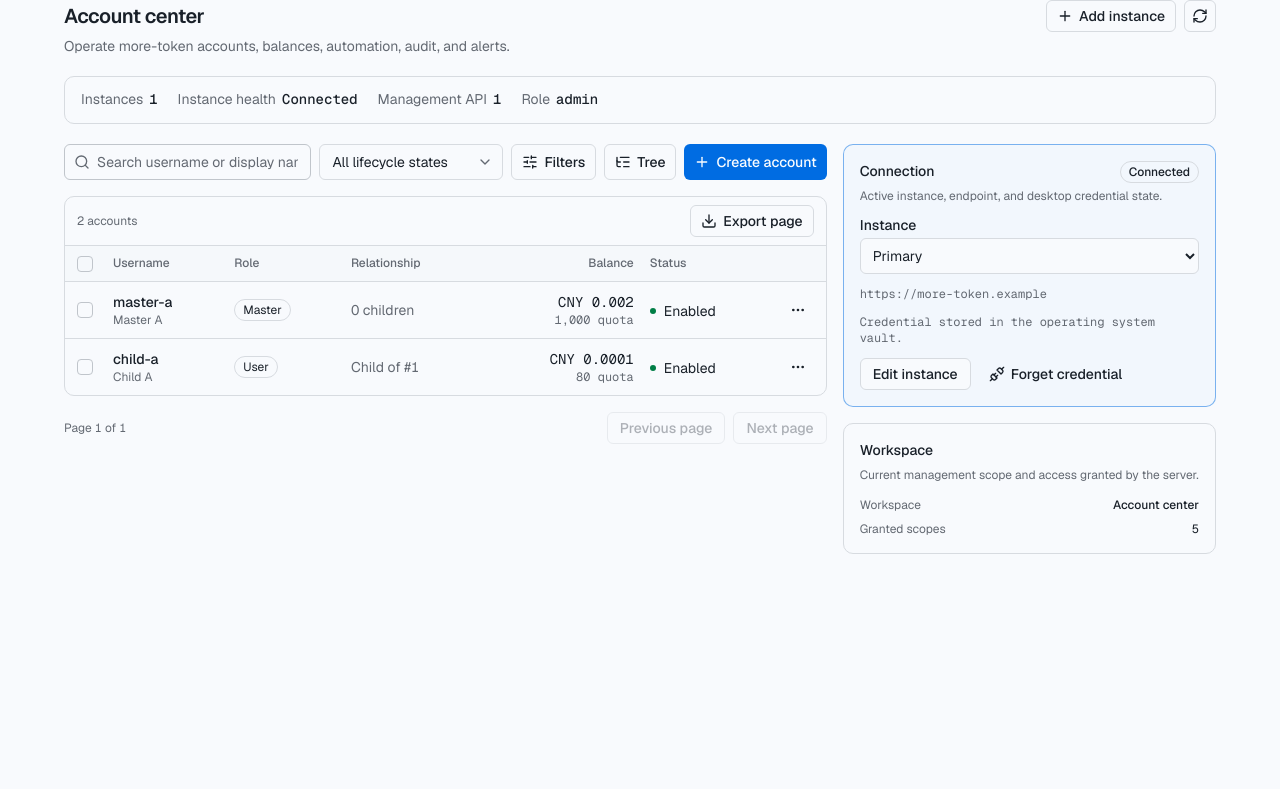
Test: shows safe child relationships and active billing sessions in account details
Click the button "master-a Master A" at (143, 310), box [113,292,172,328]
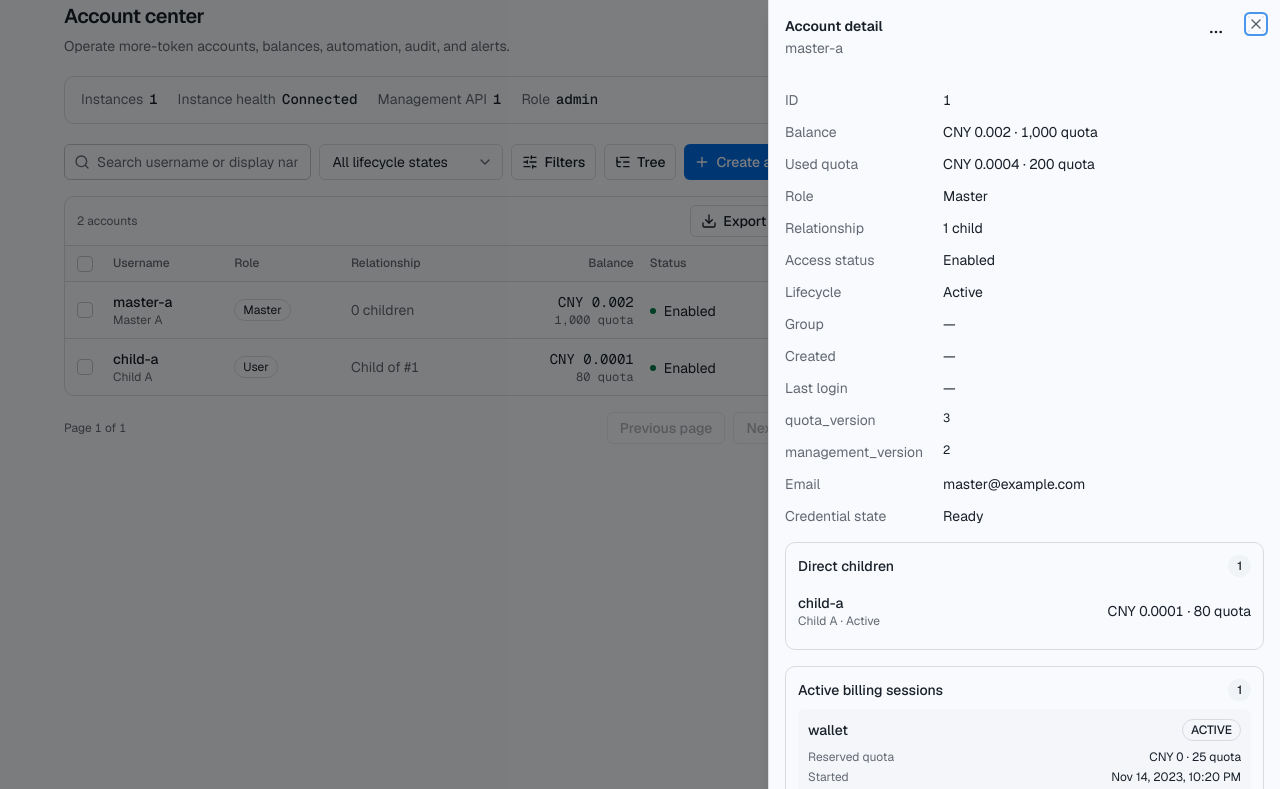
Expected: the heading "Account detail" is shown, [785,16,882,38]
Expected: the heading "Direct children" is shown, [798,556,894,576]
Expected: the text "child-a" is shown, [798,594,844,612]
